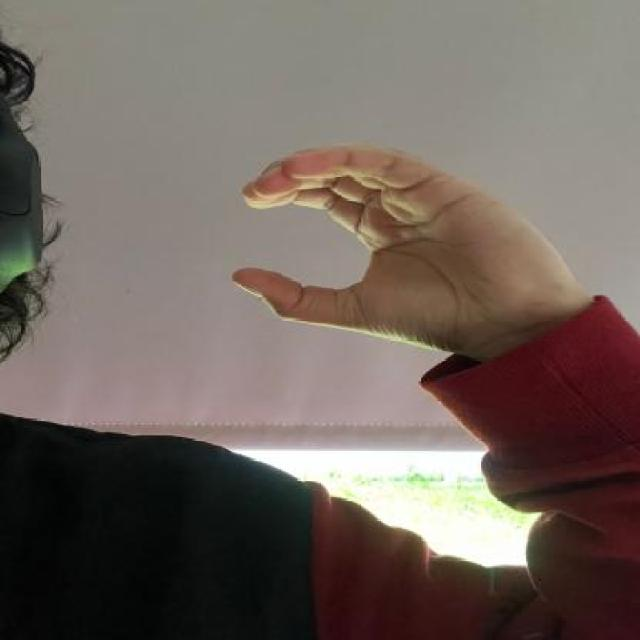C: (225, 139, 590, 383)
